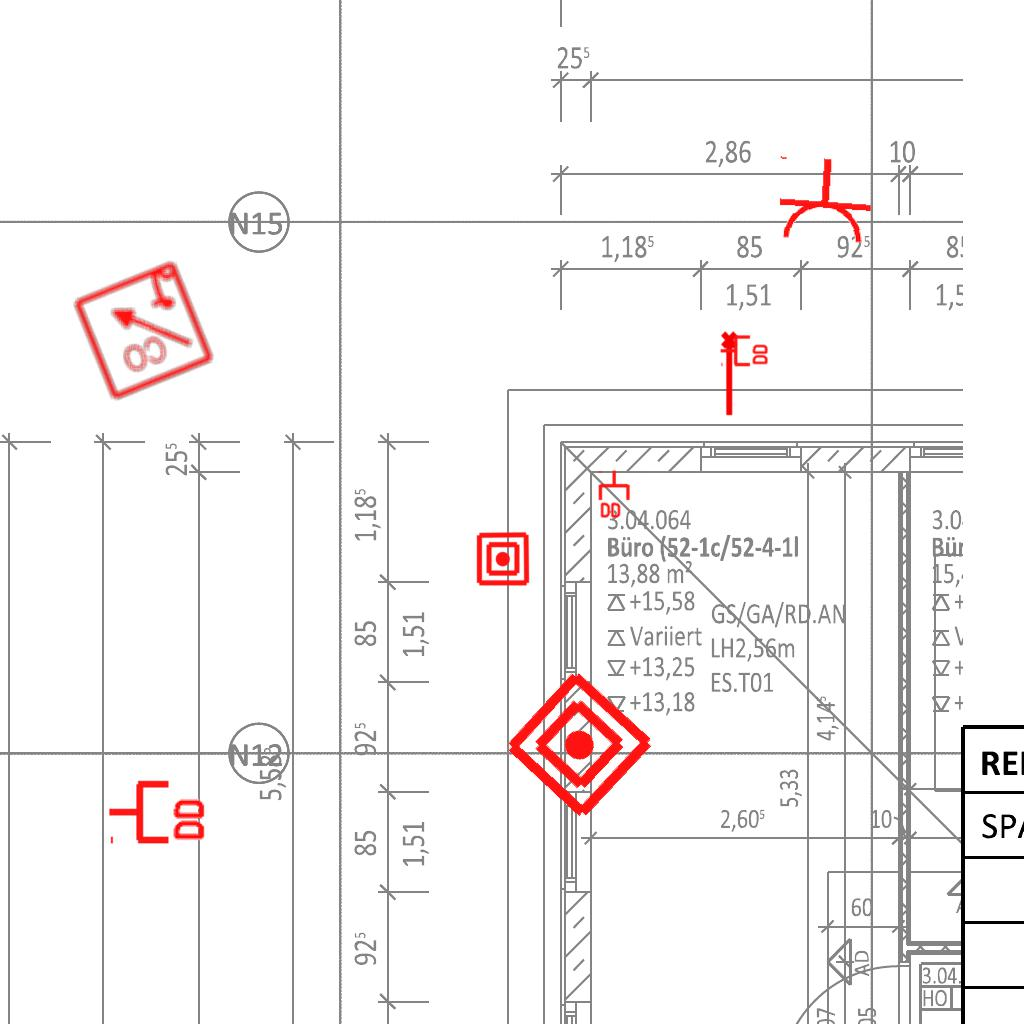ASR_Ansaugoeffnung: (719, 330, 742, 418)
Datenanschluss_zweifach: (106, 776, 209, 845), (598, 469, 632, 520), (719, 333, 770, 367)
NAM-Nichtautomatischer_Melder: (499, 664, 660, 825), (475, 531, 531, 587)
ROA_Rauchmelder_optisch_mit_Signalgeber_(Sockelsirene): (68, 255, 217, 404)
Schukosteckdose_einfach: (770, 153, 877, 247)
